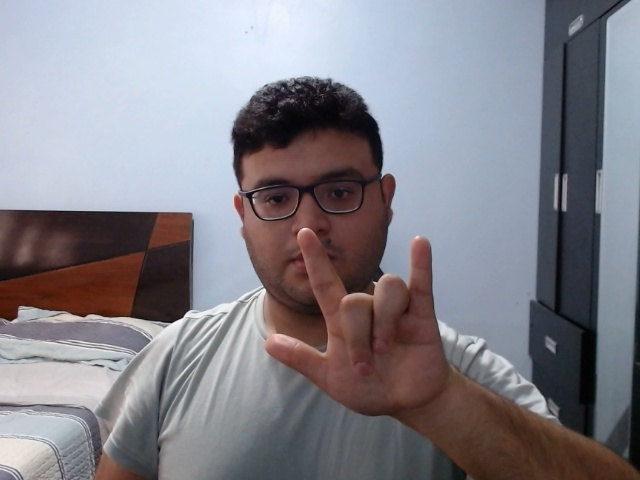I love you: (257, 227, 462, 427)
